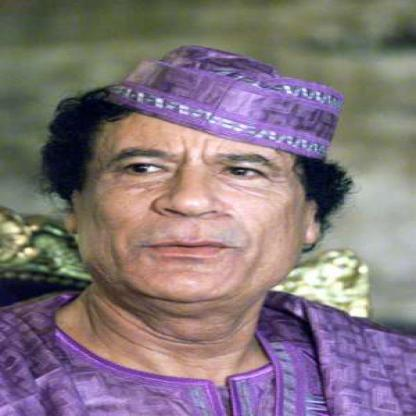face: (63, 80, 318, 308)
